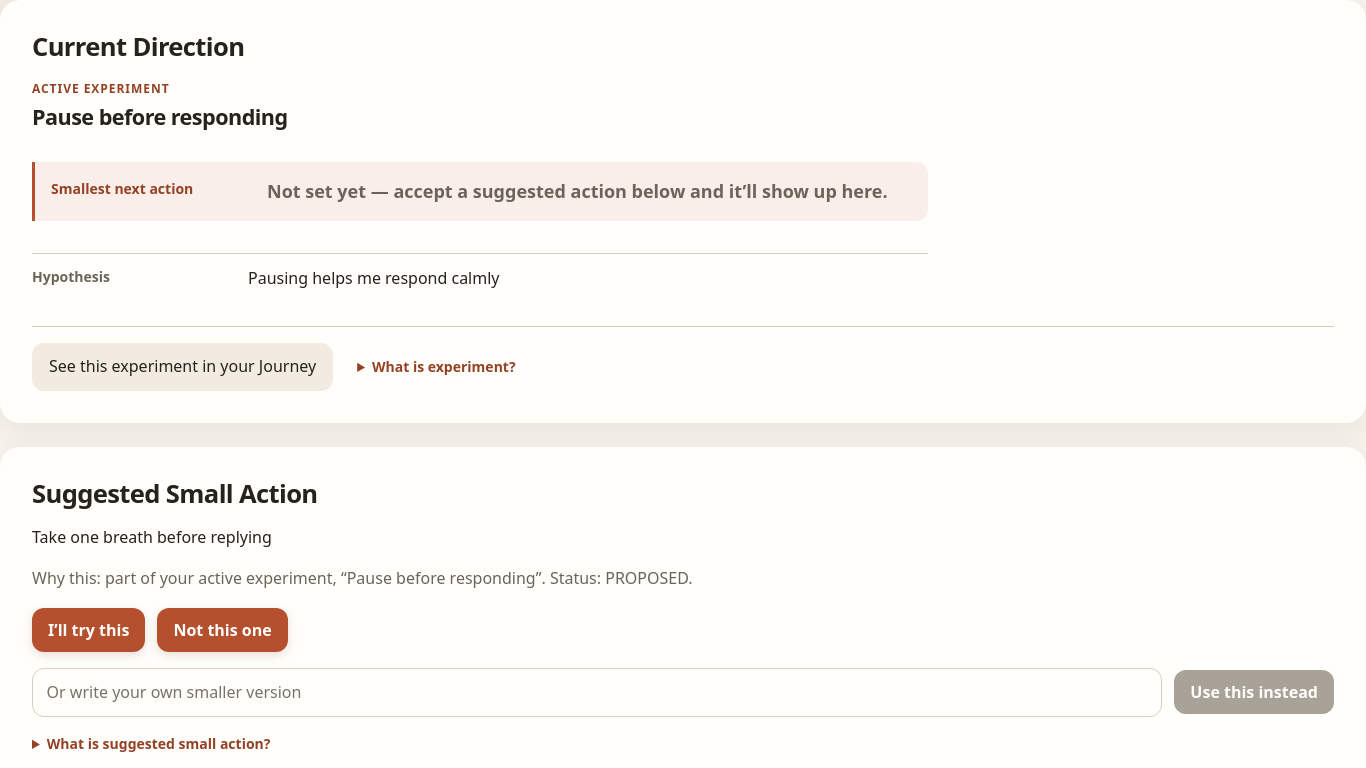
Test: TodayPage › immediately reflects the I’ll try this suggestion choice
Click the button "I’ll try this". click: (89, 630)
box: [32,608,145,652]
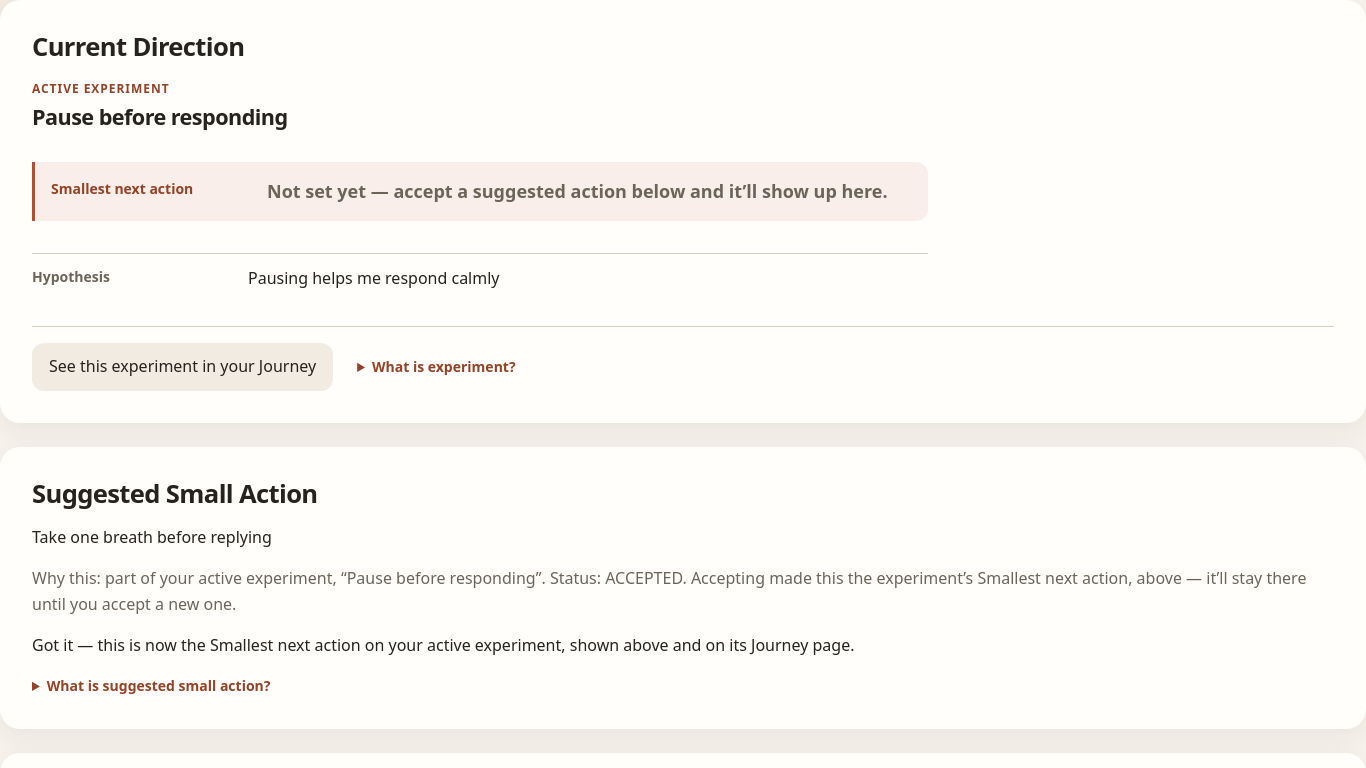
expect the text "Smallest next action on your active experiment" is shown: met, box [32,634,854,656]
expect the button "I’ll try this" is gone: met
